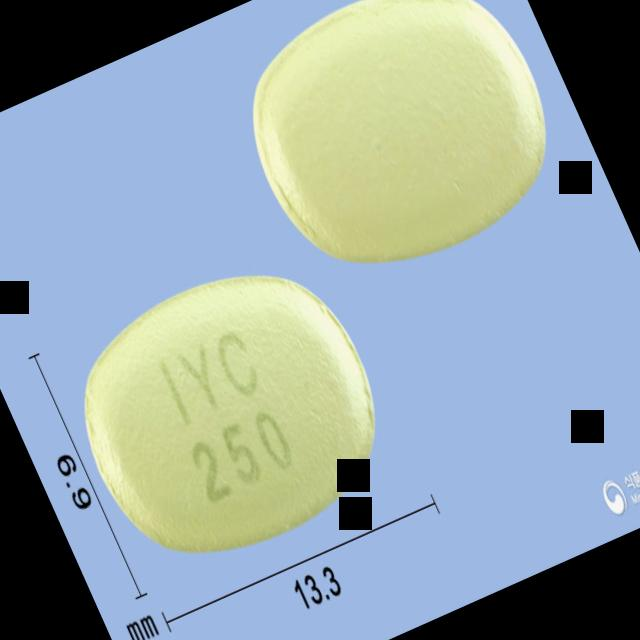Clafacin -500mg: (39, 227, 420, 600)
